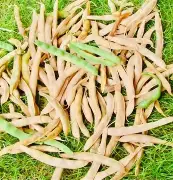crops: (0, 0, 168, 177)
